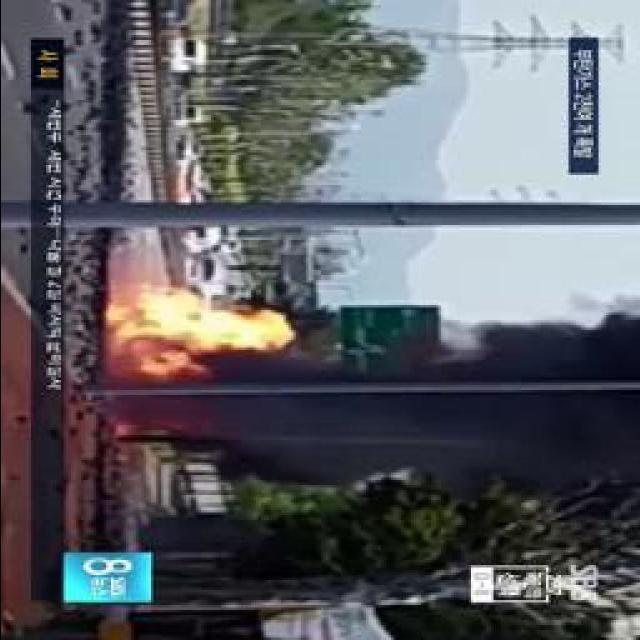Fire: (102, 288, 286, 352)
